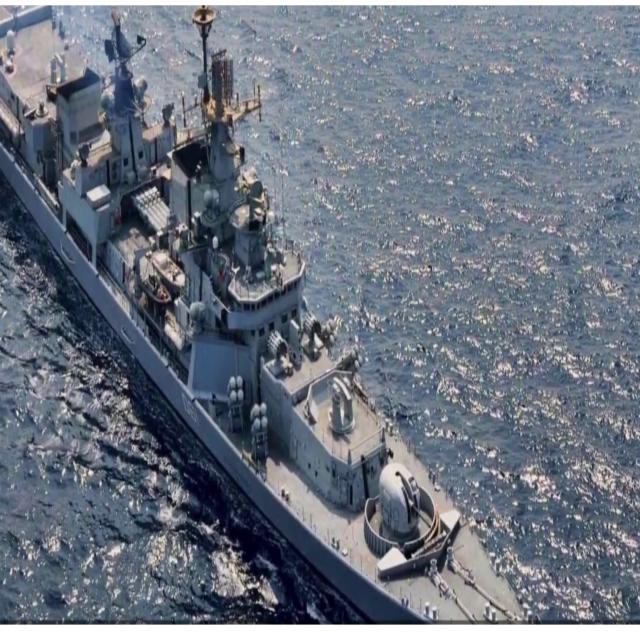OCR: (177, 386, 203, 434)
